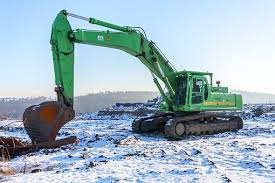excavator: (22, 10, 243, 150)
